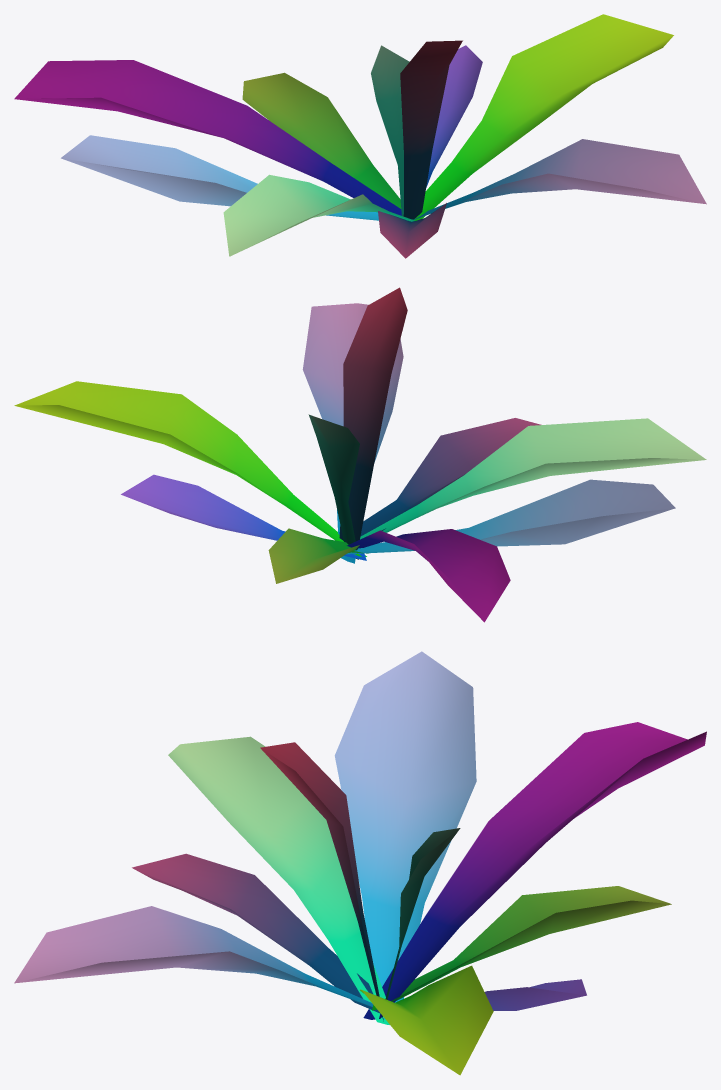
File: Curbside_Weeds_ujzjfexja_Mid_ujzjfexja_VarK_LOD0.fbx
3 renders of one model, top to bottom at view 1: azimuth 30°, elevation 25°; view 2: azimuth 150°, elevation 25°; view 3: azimuth 270°, elevation 25°, orthographic. The views are drawn at different scales.
Parts seen in each view (by area): view 1: _sywd_VarK_LOD1; view 2: _sywd_VarK_LOD1; view 3: _sywd_VarK_LOD1.
Boxes of the visible parts, x1=… form: _sywd_VarK_LOD1: x1=14, y1=14, x2=706, y2=258; _sywd_VarK_LOD1: x1=14, y1=287, x2=706, y2=622; _sywd_VarK_LOD1: x1=14, y1=651, x2=706, y2=1075.
Bounding box in the file's own units: 21.02 × 7.23 × 16.5.
